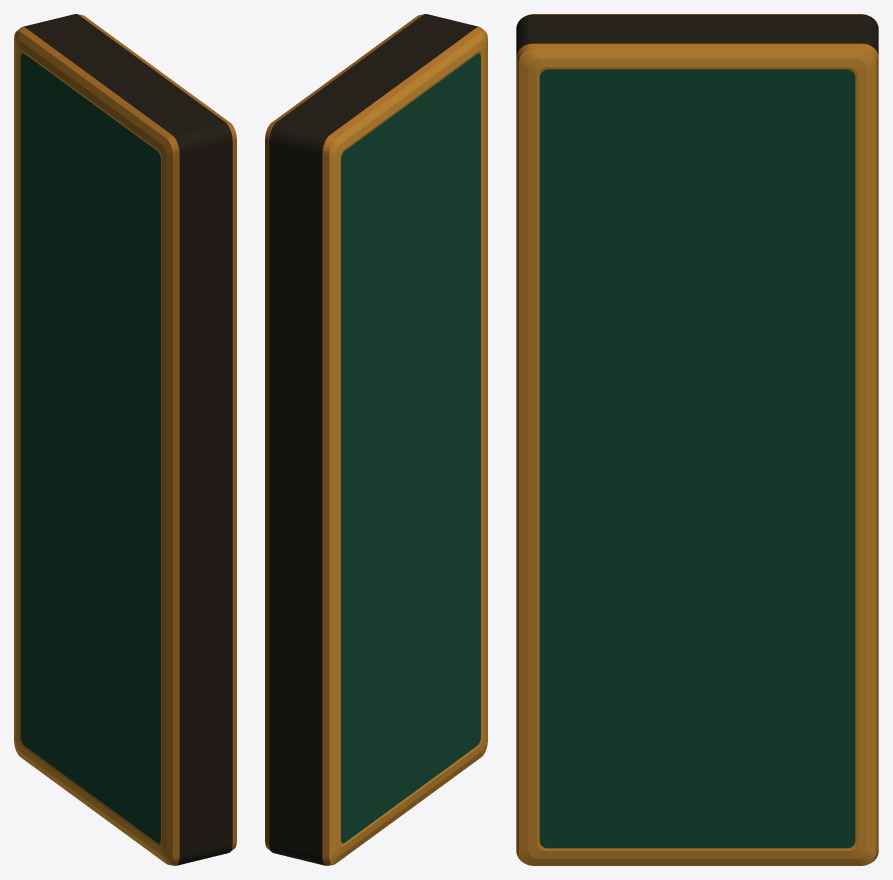
Rendered from EmeraldGoldDomino.obj.
3 views of the same model, side by side, from view 1: azimuth 30°, elevation 25°; view 2: azimuth 150°, elevation 25°; view 3: azimuth 270°, elevation 25° (orthographic). The views are drawn at different scales.
Parts seen in each view (by area): view 1: EmeraldGoldDomino; view 2: EmeraldGoldDomino; view 3: EmeraldGoldDomino.
Boxes of the visible parts, x1,y1,x2,y2 form: EmeraldGoldDomino: (14,14,236,865); EmeraldGoldDomino: (265,14,487,865); EmeraldGoldDomino: (516,14,878,865).
Bounding box in the file's own units: 0.1 × 1 × 0.4.
